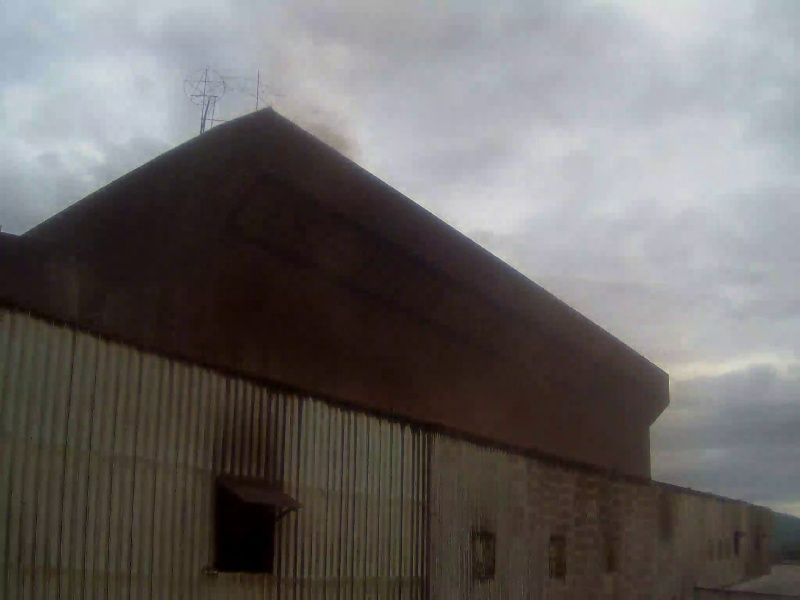bom: (5, 10, 240, 198)
ruim: (250, 6, 722, 483)
